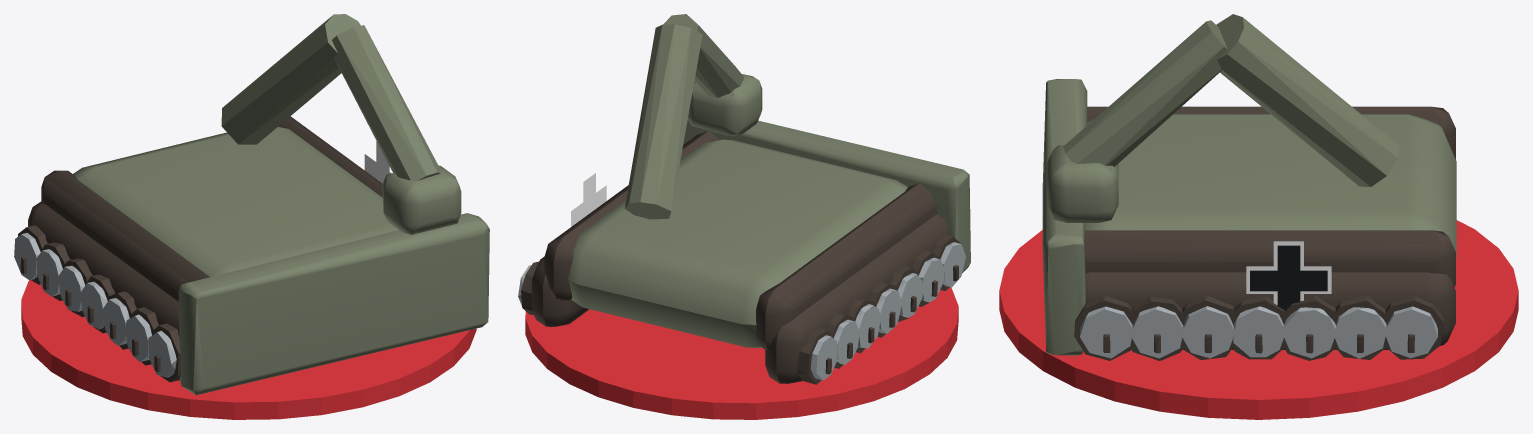
File: germany_engineer_lod0.glb
3 renders of one model, left to right at view 1: azimuth 30°, elevation 25°; view 2: azimuth 150°, elevation 25°; view 3: azimuth 270°, elevation 25°, orthographic. The views are drawn at different scales.
Visible parts, largest first — view 1: body_hull, base_pedestal; view 2: body_hull, base_pedestal; view 3: body_hull, base_pedestal.
Boxes of the visible parts, x1,y1,x2,y2 form: body_hull: (14,14,489,395); base_pedestal: (21,280,476,419); body_hull: (518,14,970,384); base_pedestal: (525,287,958,419); body_hull: (1042,14,1456,360); base_pedestal: (999,220,1518,419).
Size of the model in its own units: 0.78 by 0.5572 by 0.78.
